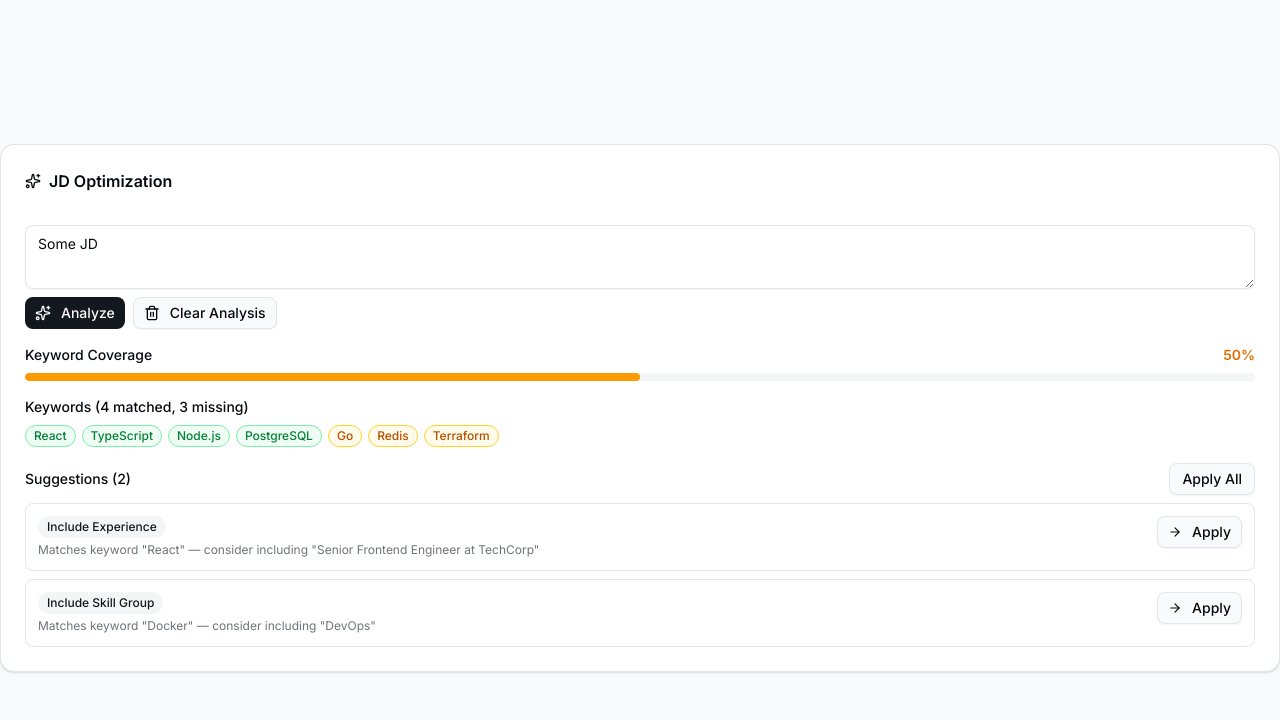
Test: JdOptimizer › shows applied state after applying a suggestion
Click the button "Apply" in the row of "Include Experience".
click(1200, 532)  # box [1157,516,1242,548]
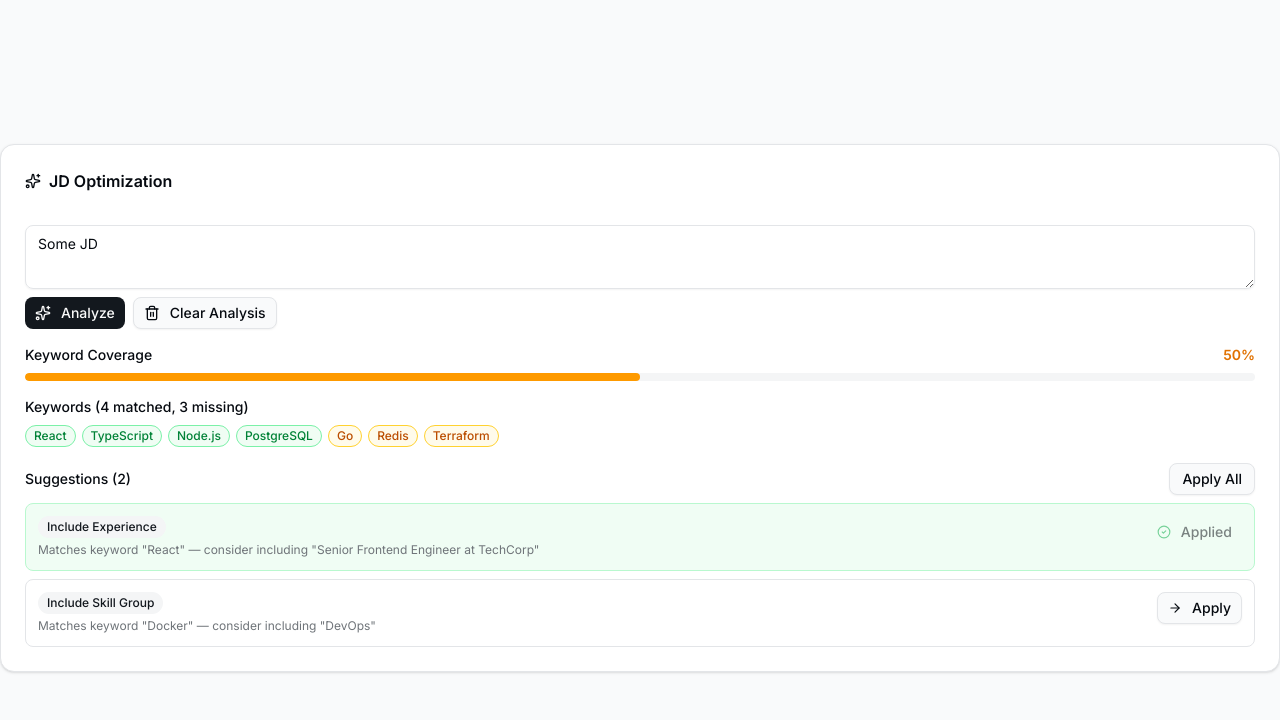
Result: the button "Applied" is shown at [1147,516,1242,548]
